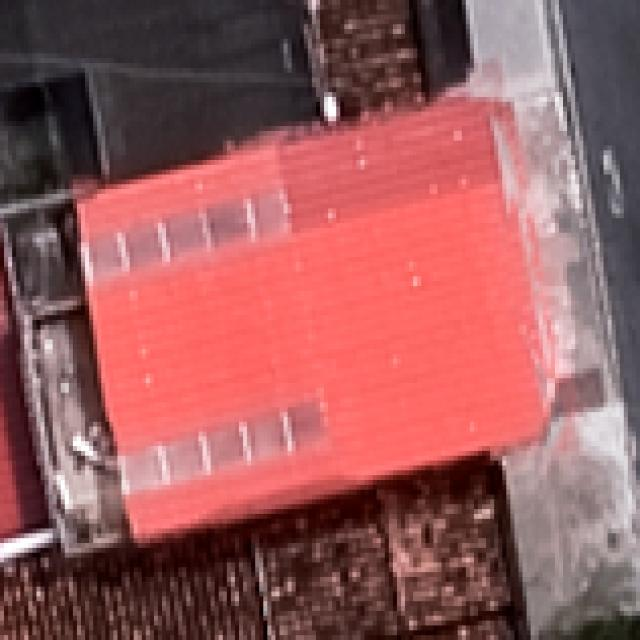Batiment: (80, 99, 543, 541), (0, 458, 525, 639)
